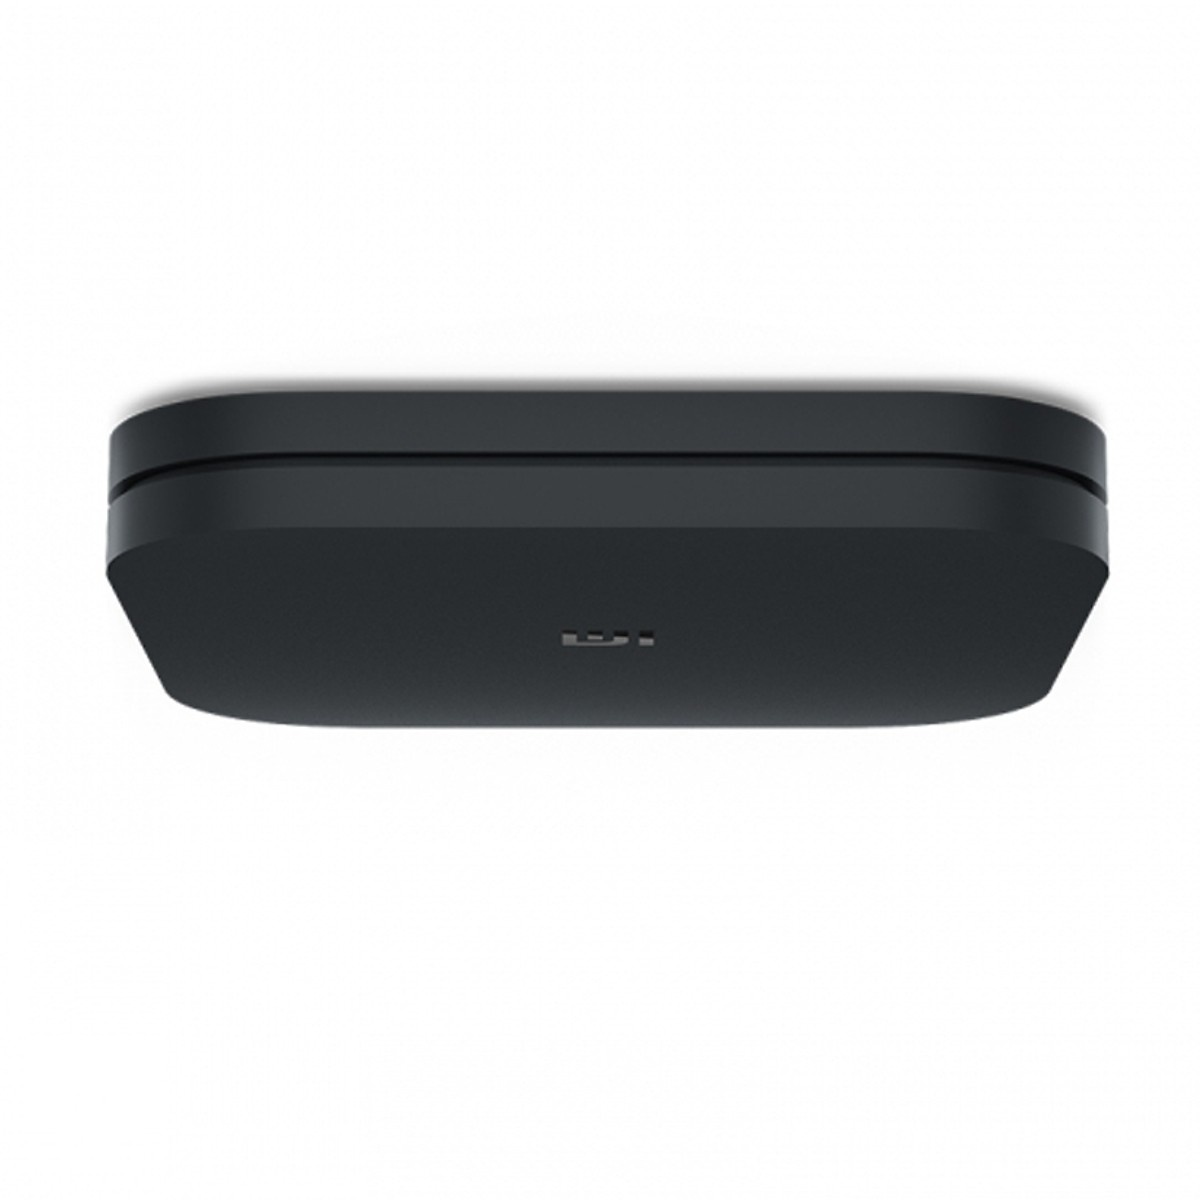Xiaomi: (495, 465, 788, 691)
